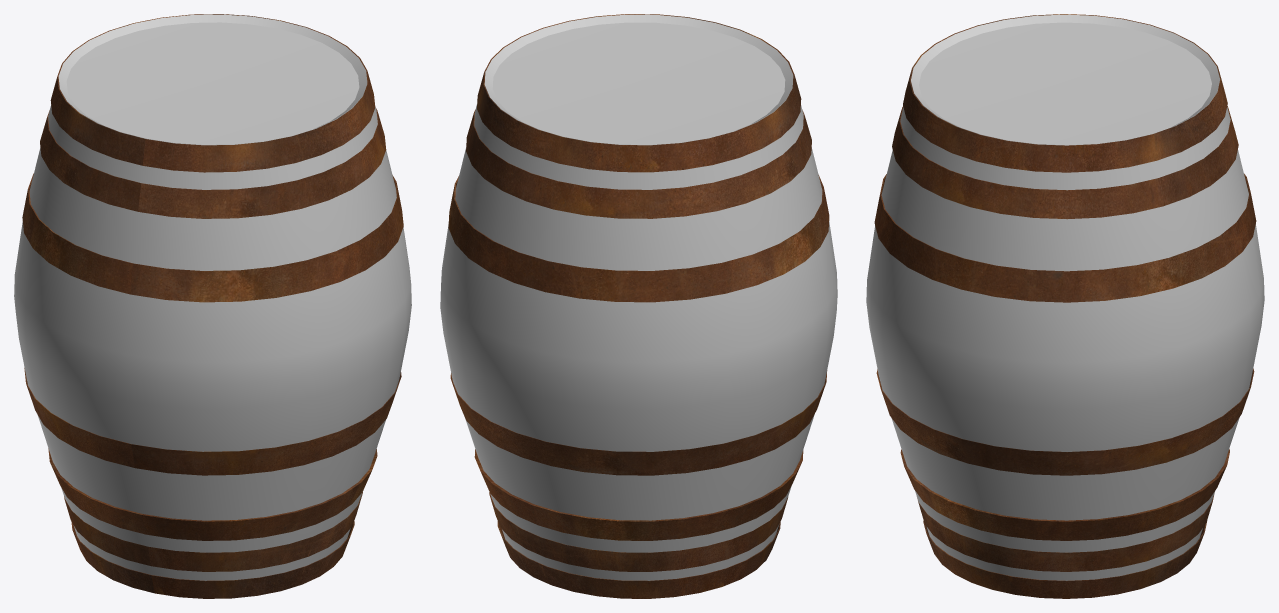
The model's file is Barrel_Closed_var-2.fbx.
The picture shows the model from 3 angles, left to right: view 1: azimuth 30°, elevation 25°; view 2: azimuth 150°, elevation 25°; view 3: azimuth 270°, elevation 25°; orthographic projection.
Visible parts, largest first — view 1: Wood_base, bilge hoop.001; view 2: Wood_base, bilge hoop.001; view 3: Wood_base, bilge hoop.001.
Boxes of the visible parts, x1,y1,x2,y2 form: Wood_base: (14,14,411,580); bilge hoop.001: (22,14,403,598); Wood_base: (440,14,837,580); bilge hoop.001: (448,14,829,598); Wood_base: (866,14,1264,580); bilge hoop.001: (874,14,1256,598).
Bounding box in the file's own units: 301 × 386 × 301.
